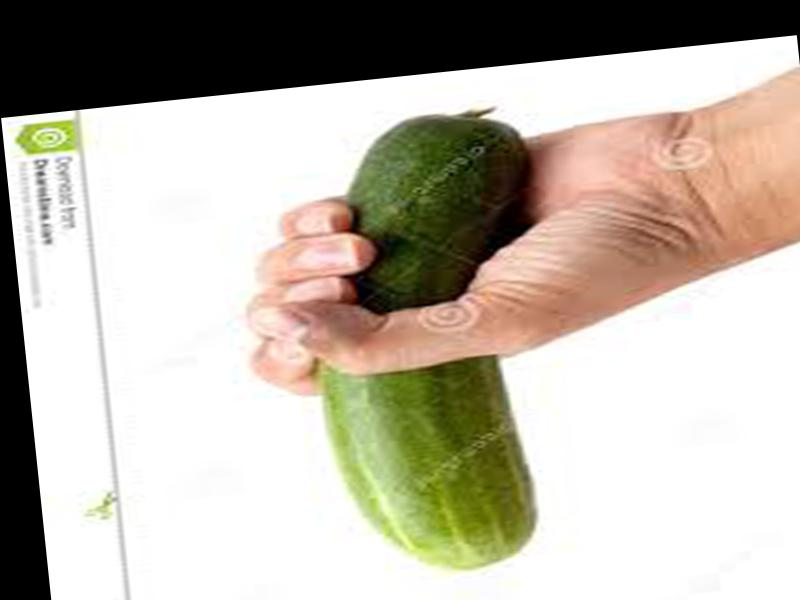Cucumber: (289, 109, 567, 584)
